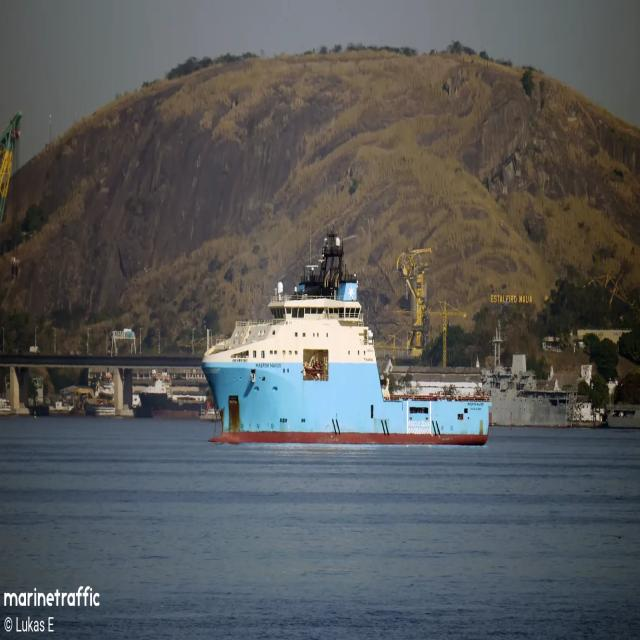Offshore: (202, 231, 490, 444)
